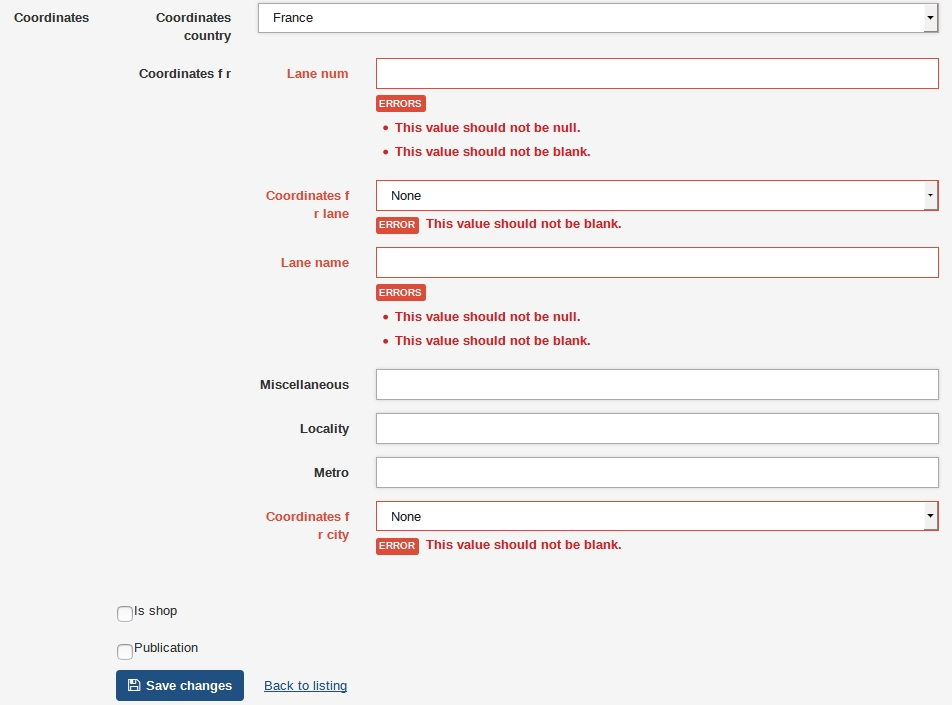error_field: (375, 56, 940, 91), (374, 179, 939, 214), (375, 244, 940, 279), (373, 499, 938, 534)
error_message: (395, 119, 596, 158), (392, 309, 592, 347), (425, 215, 623, 232), (269, 187, 357, 221), (424, 537, 624, 551), (266, 510, 352, 542), (281, 254, 351, 271), (283, 64, 355, 80), (377, 96, 426, 112), (377, 286, 421, 301), (378, 218, 417, 232), (376, 539, 418, 552)
